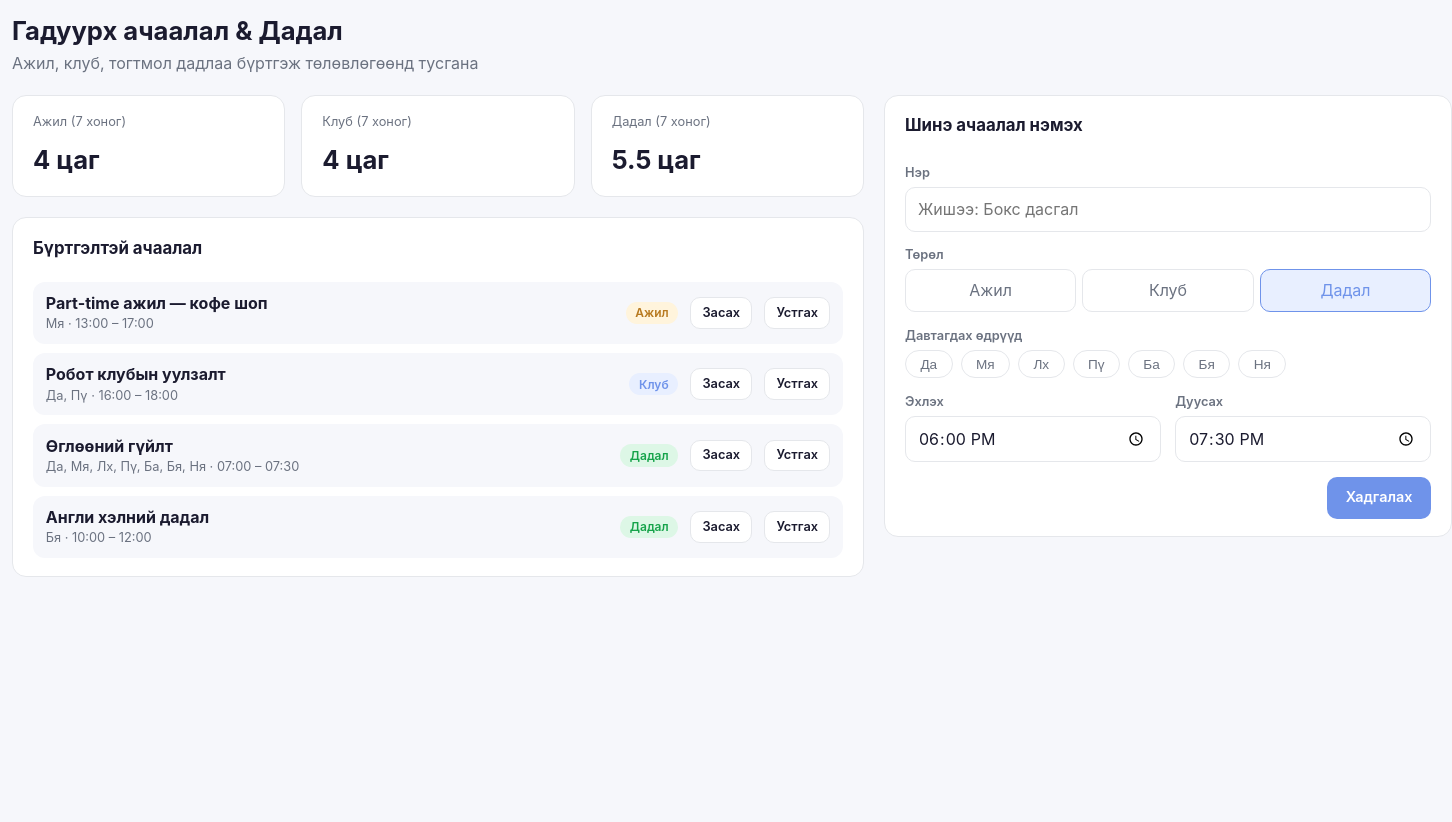
Test: Commitment & Habit CRUD › UPDATE: Дадлын нэрийг засна
Type "Ном унших" into the field with test id "field-title" at (1168, 210), box [905,187,1431,232]
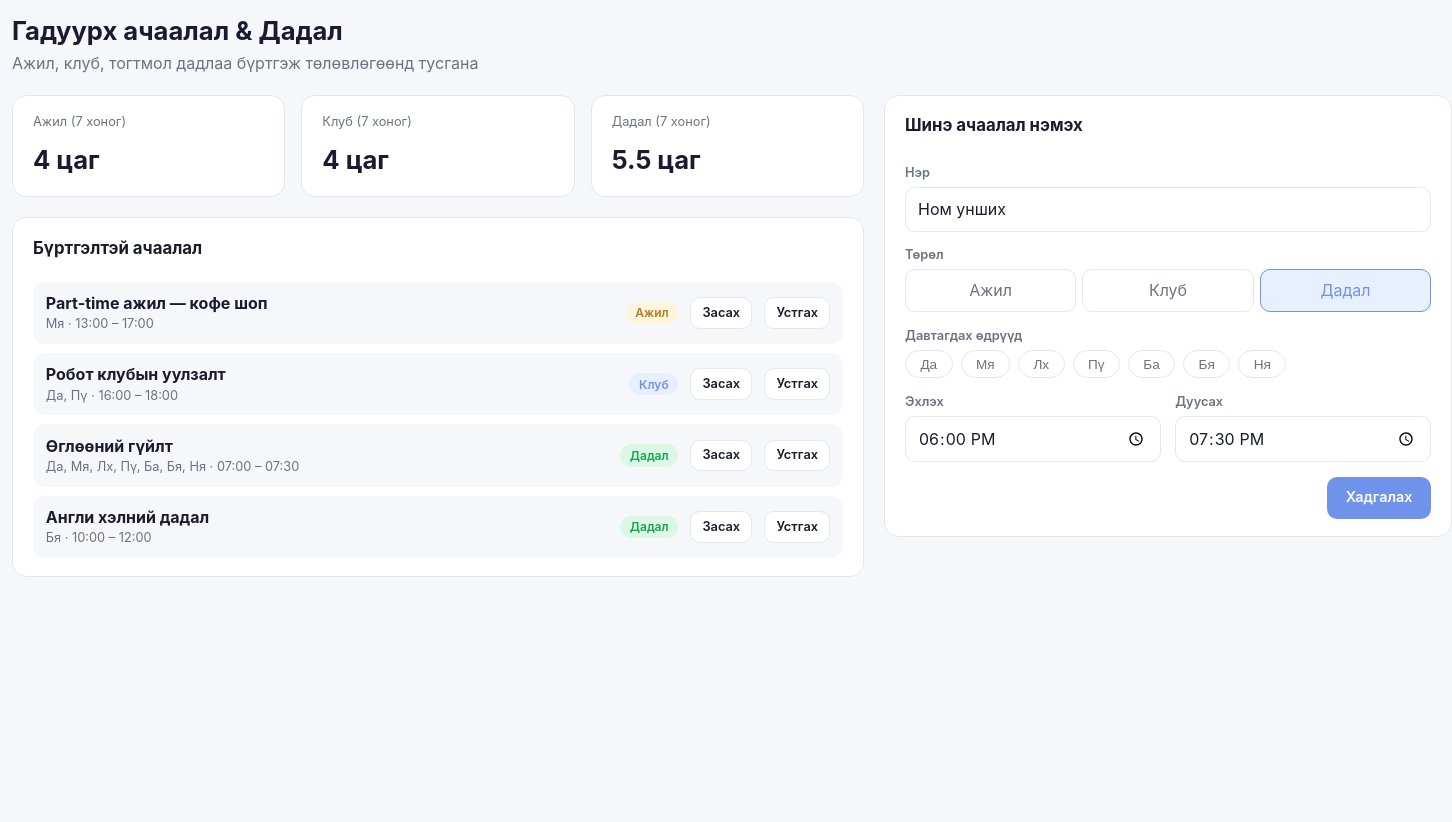
Click the button with test id "day-0" at (929, 364), box [905,350,953,378]
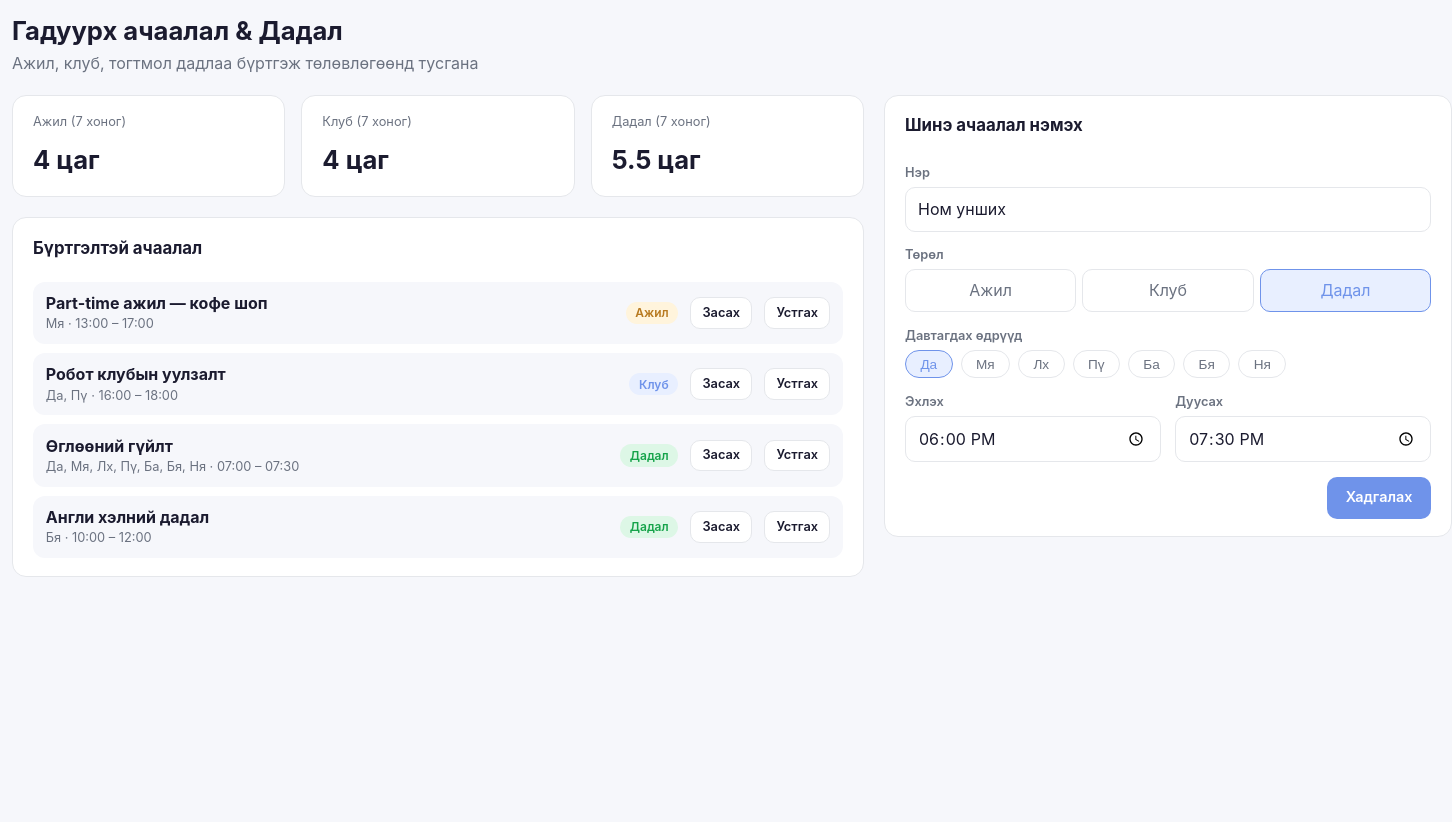
Click the button with test id "submit" at (1379, 498), box [1327,477,1431,519]
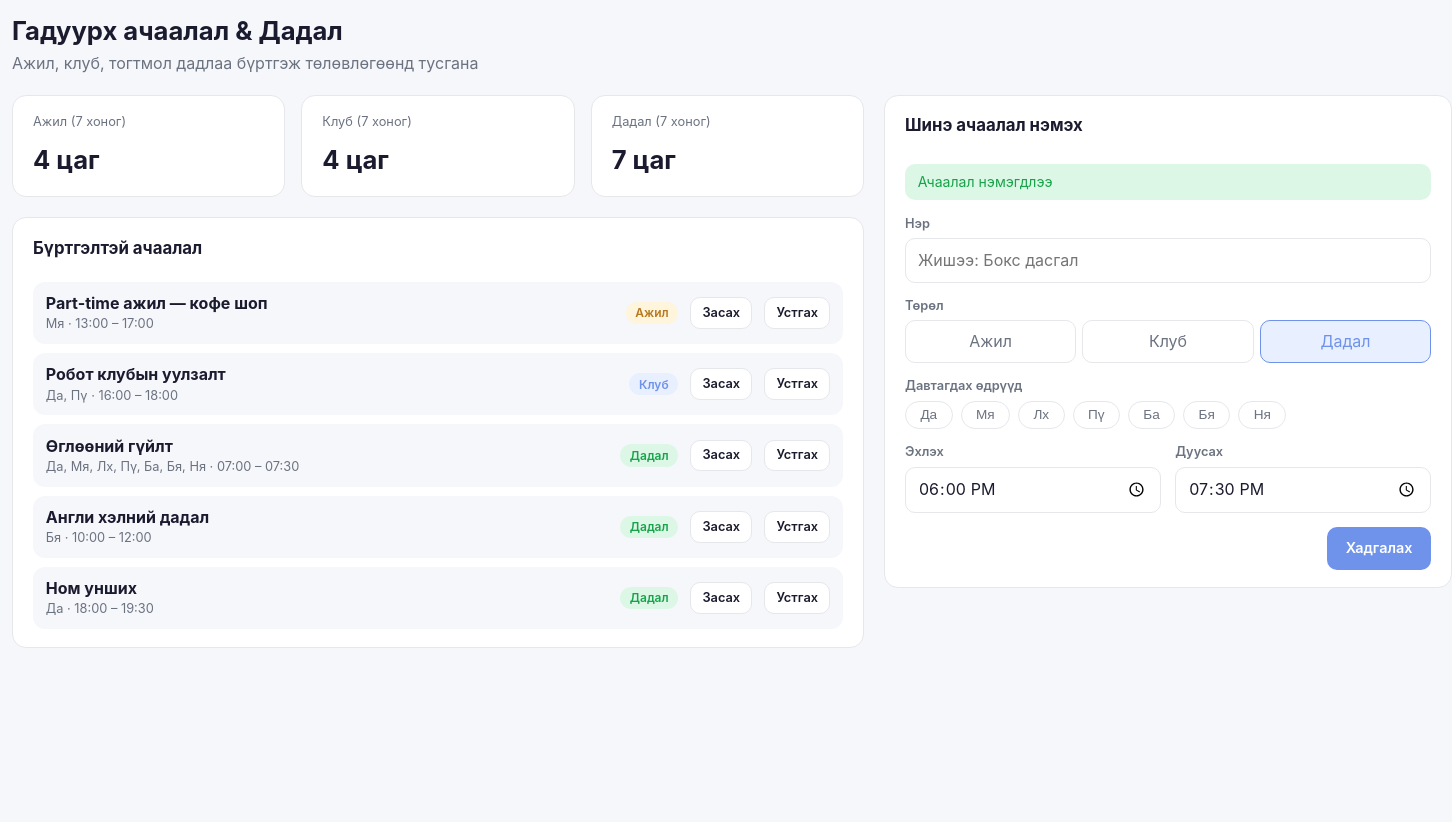
Click the button with aria-label "Ном унших засах" at (721, 598), box [690,582,752,614]
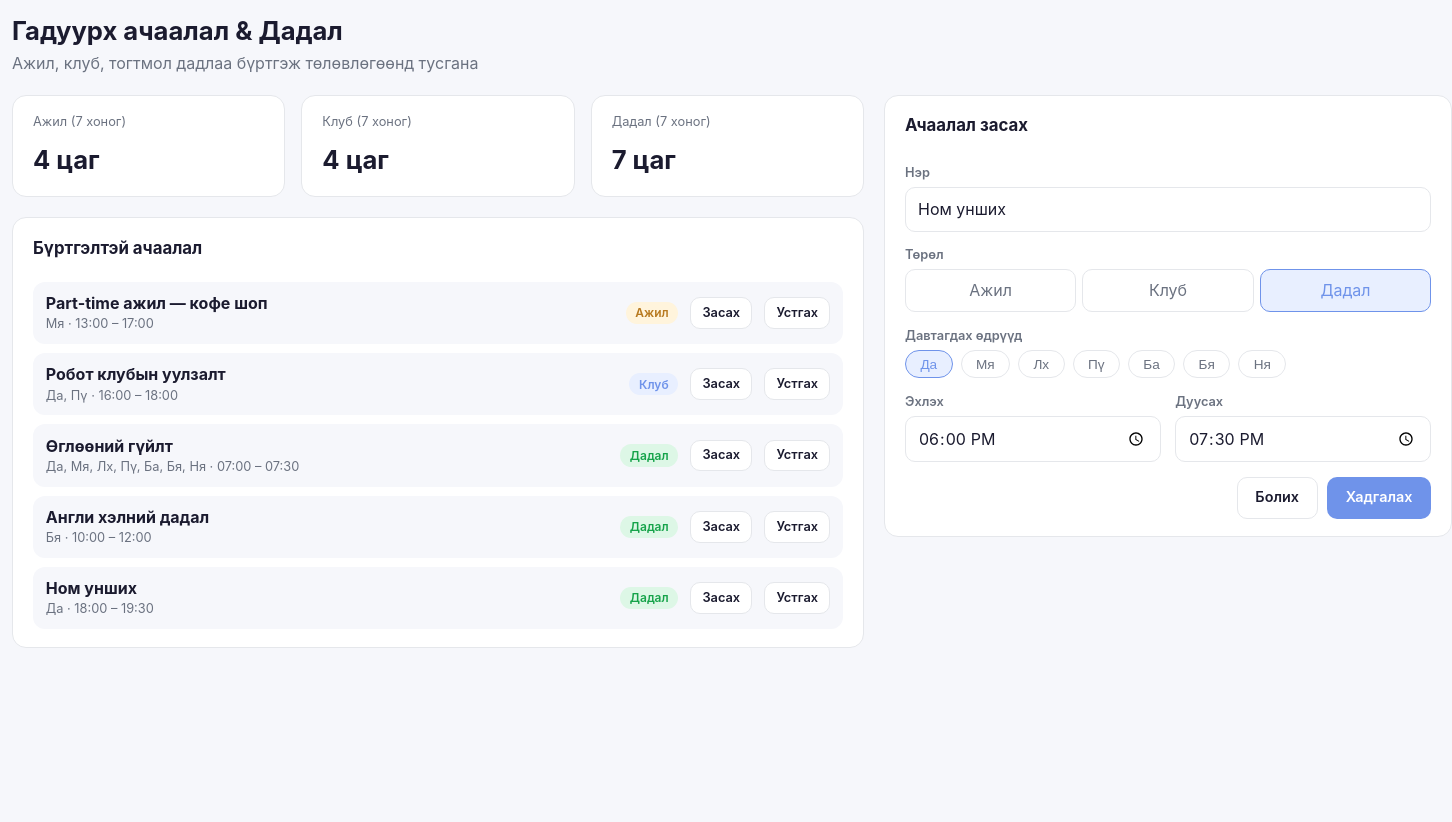
Replace the text in the field with test id "field-title" with "Англи ном унших" at (1168, 210), box [905,187,1431,232]
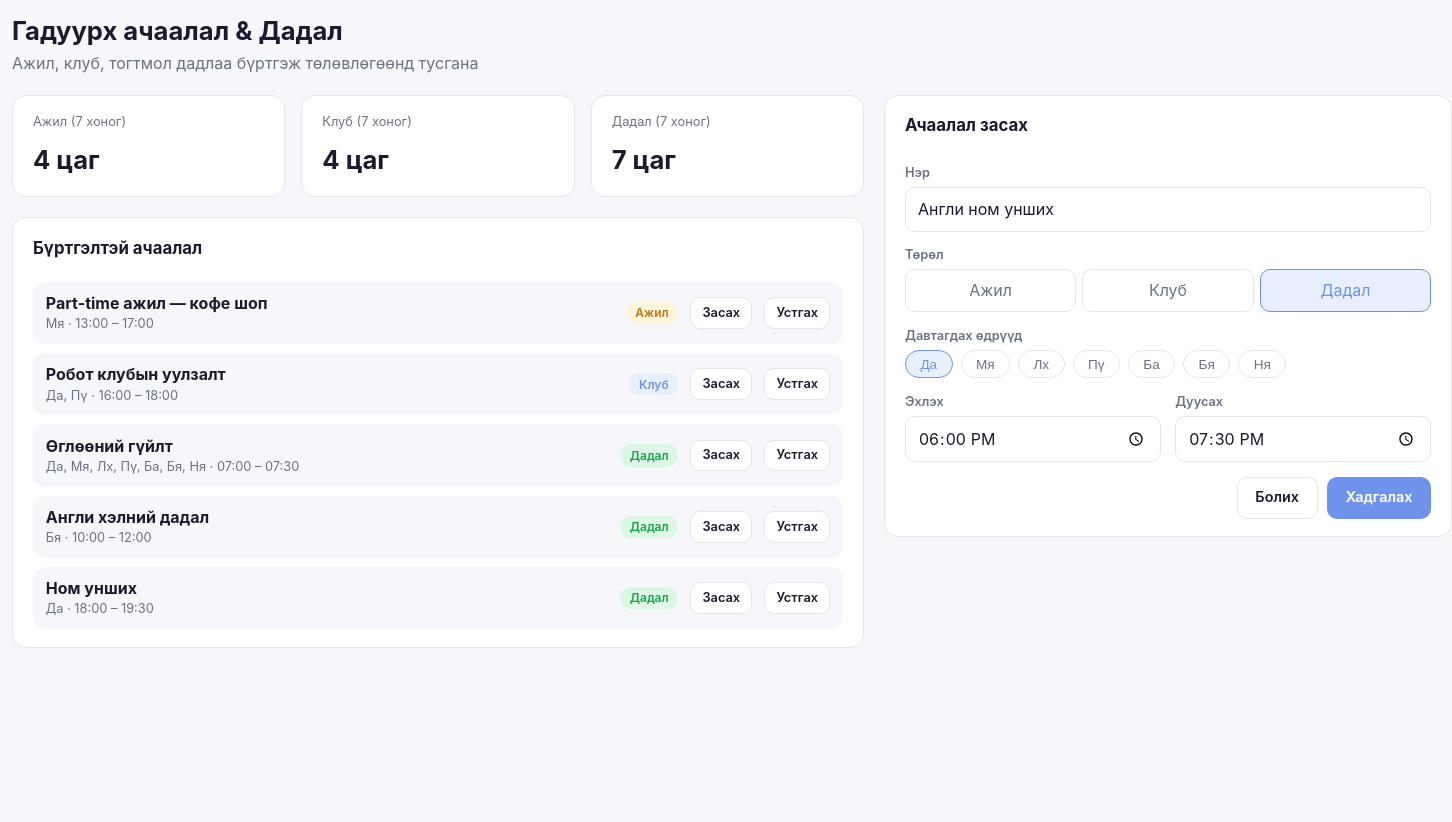
Click the button with test id "submit" at (1379, 498), box [1327,477,1431,519]
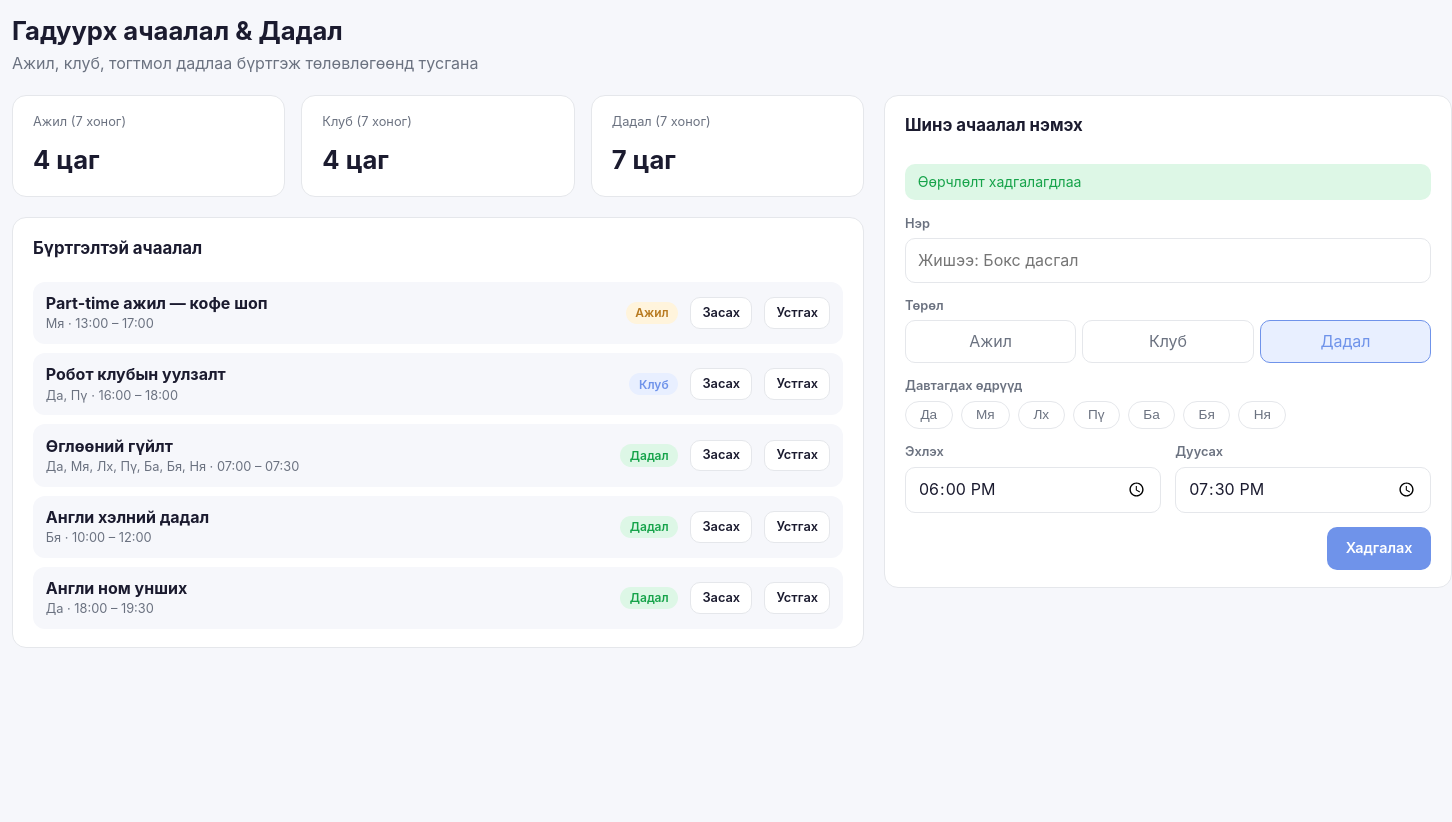
Check: the text "Англи ном унших" is shown, box [46,578,187,598]
